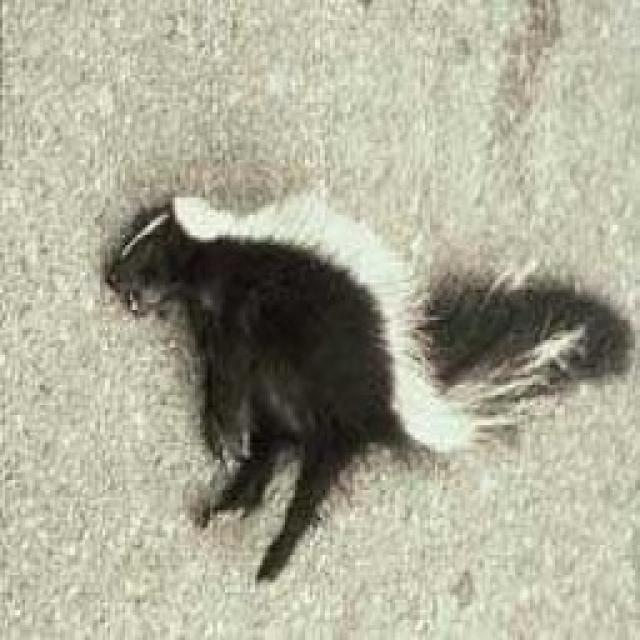not_pig: (100, 180, 635, 582)
